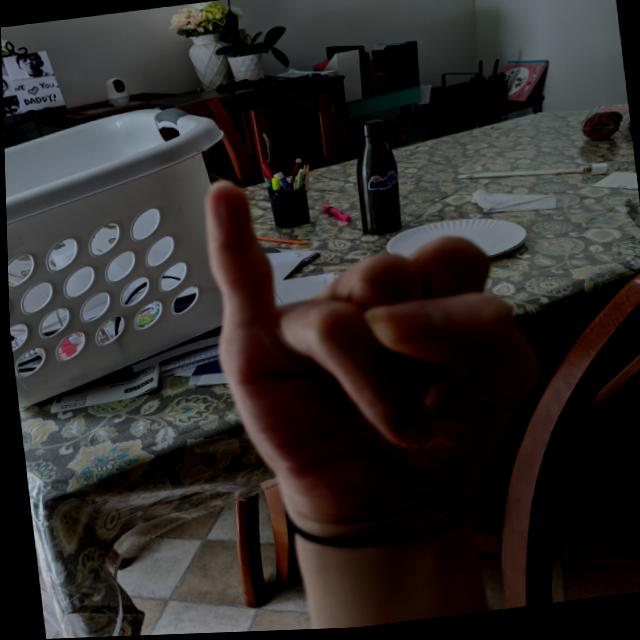I: (190, 141, 563, 559)
